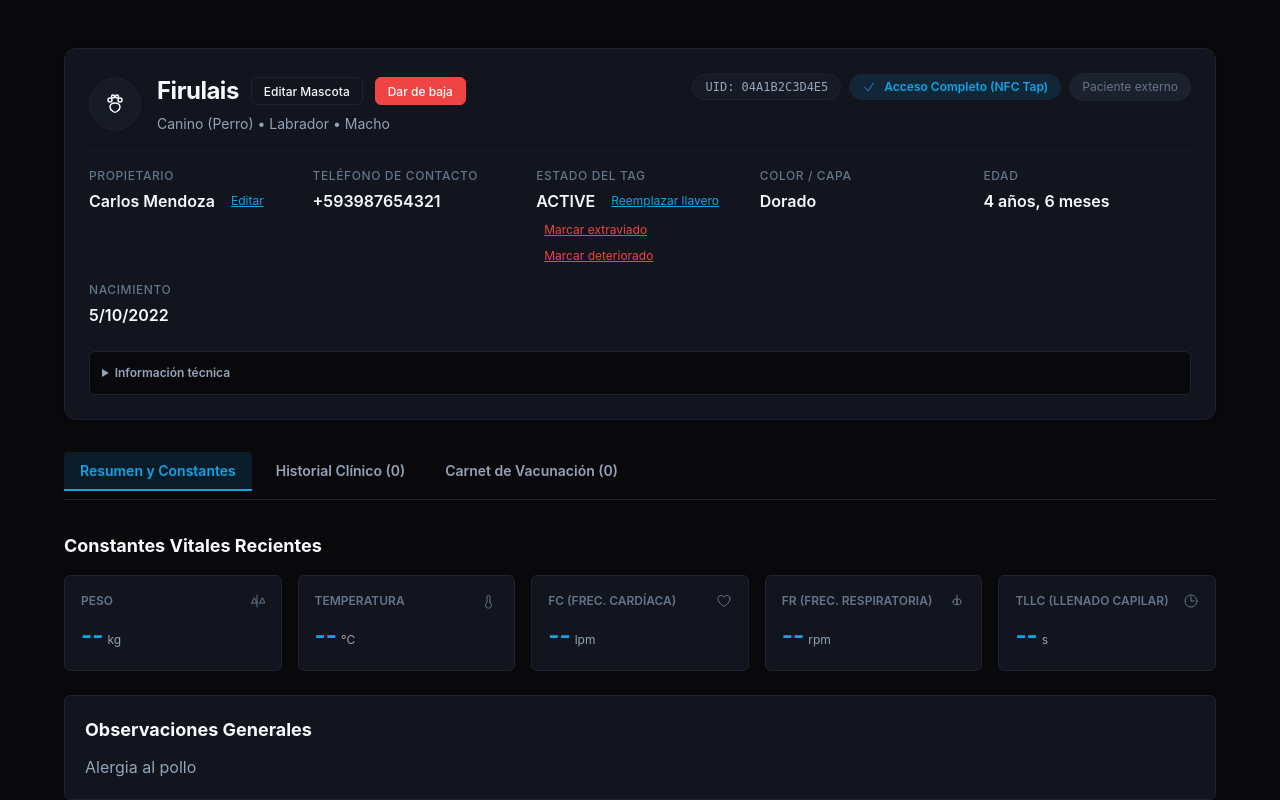
Test: UI Integration: Auditoría CRUD y Contratos (PatientFileScreen & Modales) › baja lógica de mascota: captura HTTP 409 Conflict y muestra el mensaje claro
This screenshot has width=1280, height=800.
Click the button with test id "delete-pet-button". click: click(420, 91)
box: [375,77,466,105]
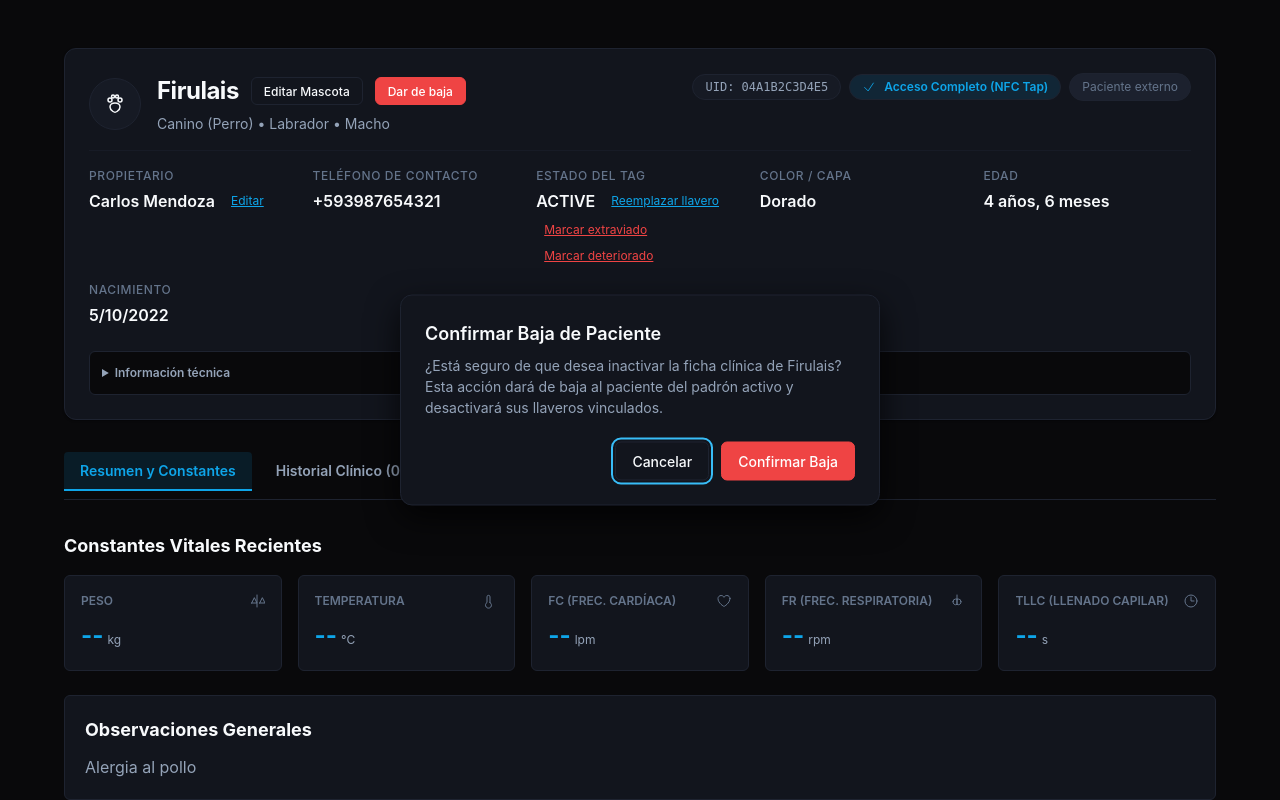
Expected: the heading "Confirmar Baja de Paciente" is shown, [425,322,661,344]
Click the button "Confirmar Baja". click: click(788, 461)
box: [721,442,855,480]
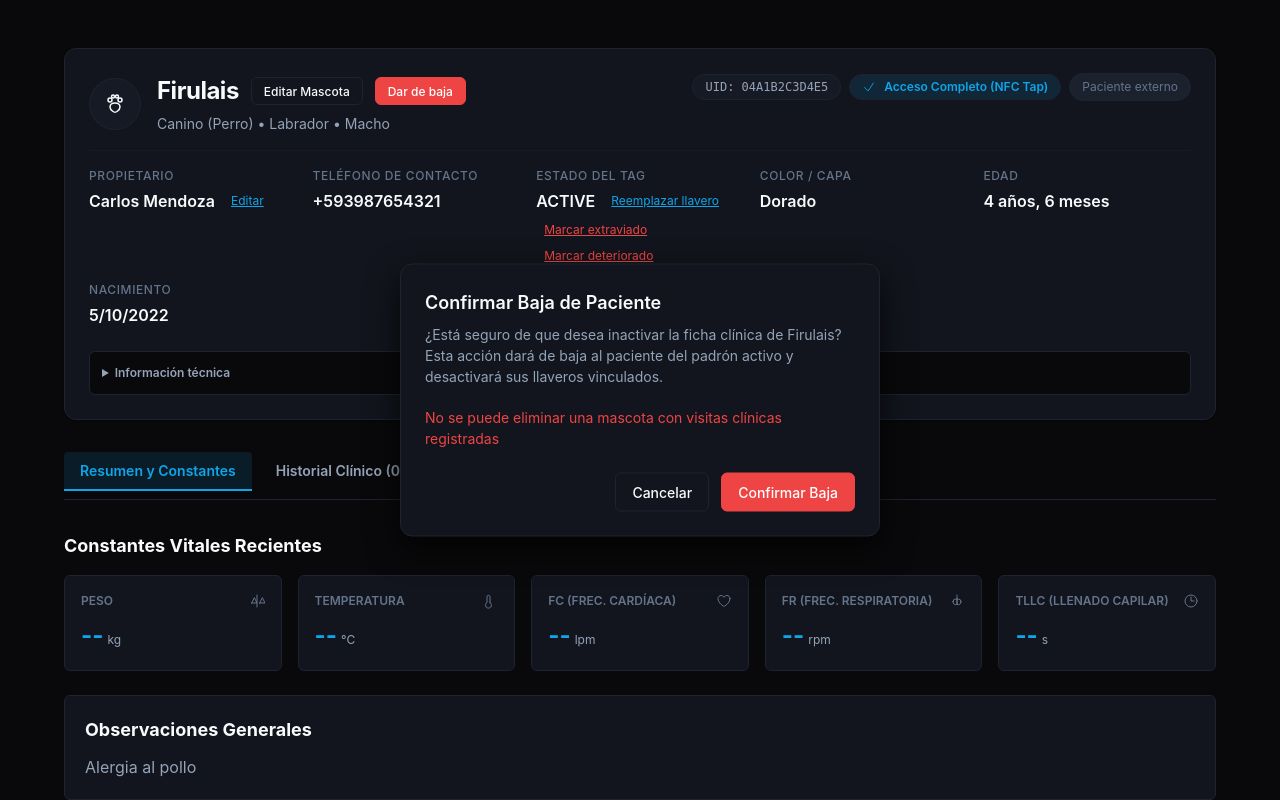
Expected: the text "No se puede eliminar una mascota con visitas clínicas registradas" is shown, [425,408,782,446]
